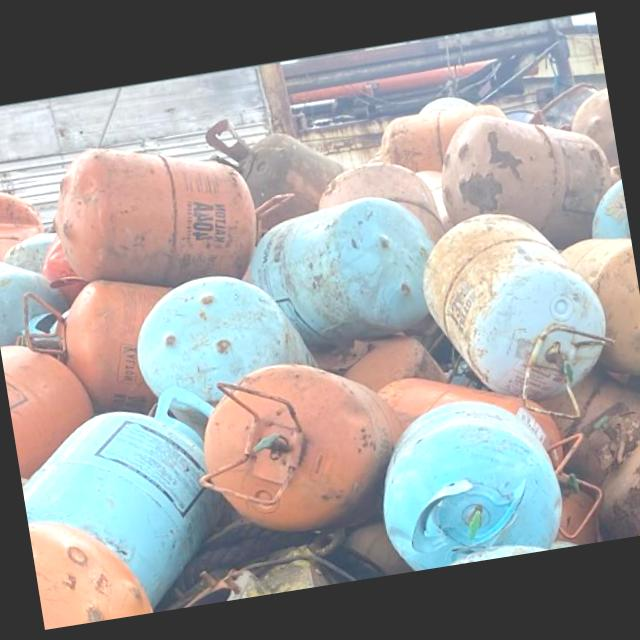Cylinders: (417, 222, 619, 419), (384, 398, 566, 570), (49, 153, 289, 275)
